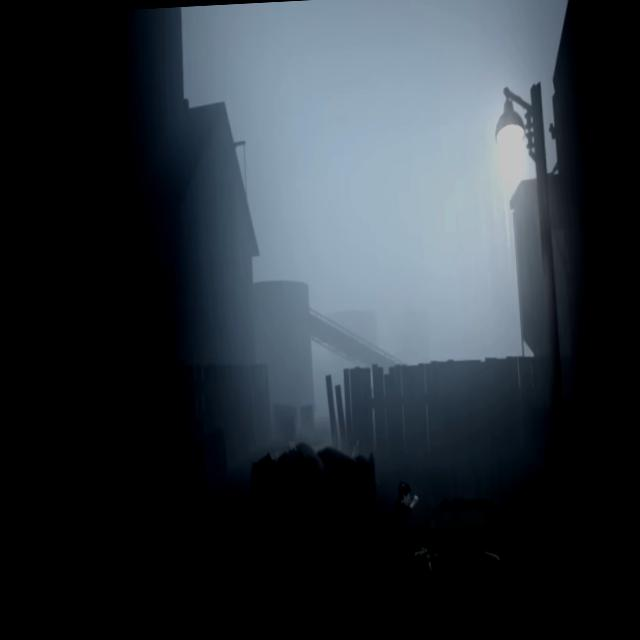boy: (389, 482, 418, 568)
